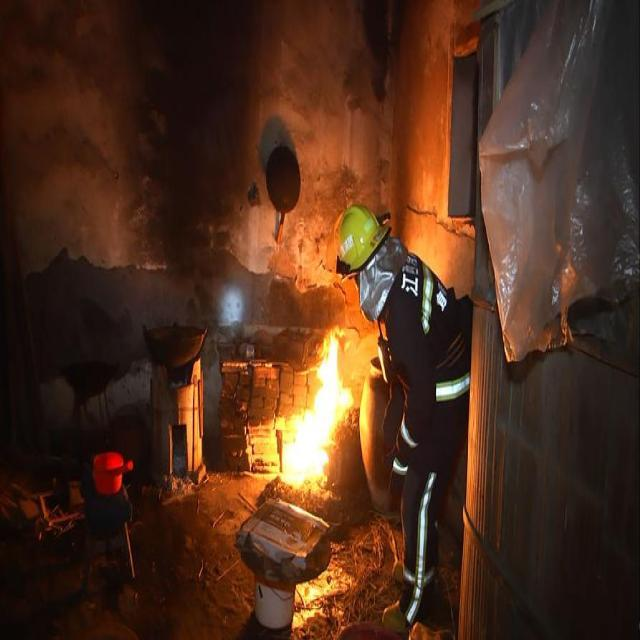Fire: (281, 336, 357, 487)
